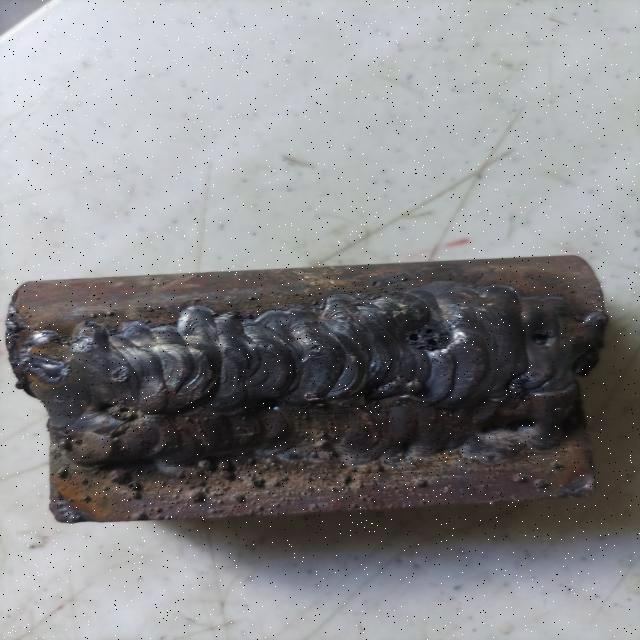Porosity: (399, 322, 460, 355), (97, 400, 141, 425), (502, 374, 534, 401), (521, 327, 556, 350), (109, 364, 132, 386), (307, 341, 327, 360)
